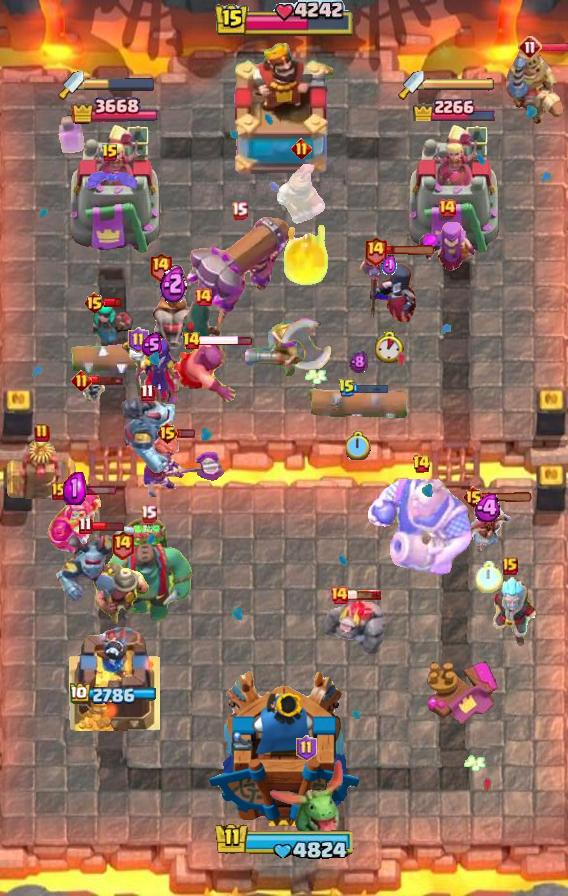axe: (265, 317, 333, 371)
bandit: (179, 301, 227, 359)
bar: (198, 334, 253, 347), (482, 492, 534, 503), (65, 485, 117, 496), (385, 245, 437, 256), (346, 589, 382, 601), (89, 374, 125, 386), (90, 520, 125, 532), (354, 382, 389, 394), (539, 42, 568, 53), (177, 428, 196, 439), (104, 297, 123, 308)
bar-level: (110, 529, 135, 560), (148, 251, 173, 282), (363, 235, 388, 266), (518, 35, 542, 59), (462, 485, 485, 509), (156, 421, 179, 445), (83, 291, 106, 315), (296, 735, 317, 761), (128, 327, 149, 353), (71, 370, 92, 391), (291, 138, 312, 159), (329, 585, 349, 605), (193, 287, 213, 307), (437, 198, 457, 218), (412, 454, 431, 474), (182, 331, 201, 351), (338, 378, 356, 398), (101, 143, 119, 163), (140, 504, 157, 523), (231, 201, 248, 220), (34, 423, 50, 443), (502, 557, 518, 575), (51, 482, 67, 500), (78, 516, 93, 535), (140, 383, 155, 402)
bat: (82, 167, 138, 193)
clock: (375, 331, 404, 363), (475, 561, 503, 593), (346, 431, 371, 460)
dagger-duchess-tower: (406, 122, 500, 256), (67, 122, 161, 256)
dagger-duchess-tower-bar: (424, 77, 496, 91), (84, 77, 156, 91)
elixir: (160, 263, 187, 303), (474, 494, 504, 522), (63, 472, 86, 505), (141, 332, 163, 358), (349, 350, 368, 374), (382, 254, 397, 277)
executioner: (172, 338, 238, 404)
golemite: (319, 595, 387, 655)
ice-wizard: (479, 577, 541, 649)
king-tower: (207, 669, 362, 826), (228, 41, 340, 181)
king-tower-bar: (210, 821, 358, 863), (213, 0, 355, 40)
knight-evolution: (47, 491, 101, 554)
mega-minion: (55, 523, 139, 601), (119, 394, 175, 474)
miner: (91, 559, 153, 629)
mother-witch: (416, 220, 478, 278)
musketeer: (244, 319, 302, 379)
night-witch: (359, 253, 419, 325)
princess: (463, 496, 515, 554)
queen-tower: (68, 627, 160, 731)
ram-rider: (151, 263, 195, 349)
rascal-girl: (90, 300, 134, 346)
royal-recruit: (275, 164, 327, 228)
skeleton: (81, 376, 107, 406)
tesla: (7, 434, 77, 502)
the-log: (306, 388, 410, 422), (70, 341, 172, 375)
tower-bar: (71, 94, 158, 128), (410, 92, 496, 121), (70, 683, 159, 706)
valkyrie-evolution: (142, 433, 226, 500)
witch: (120, 336, 184, 402)
